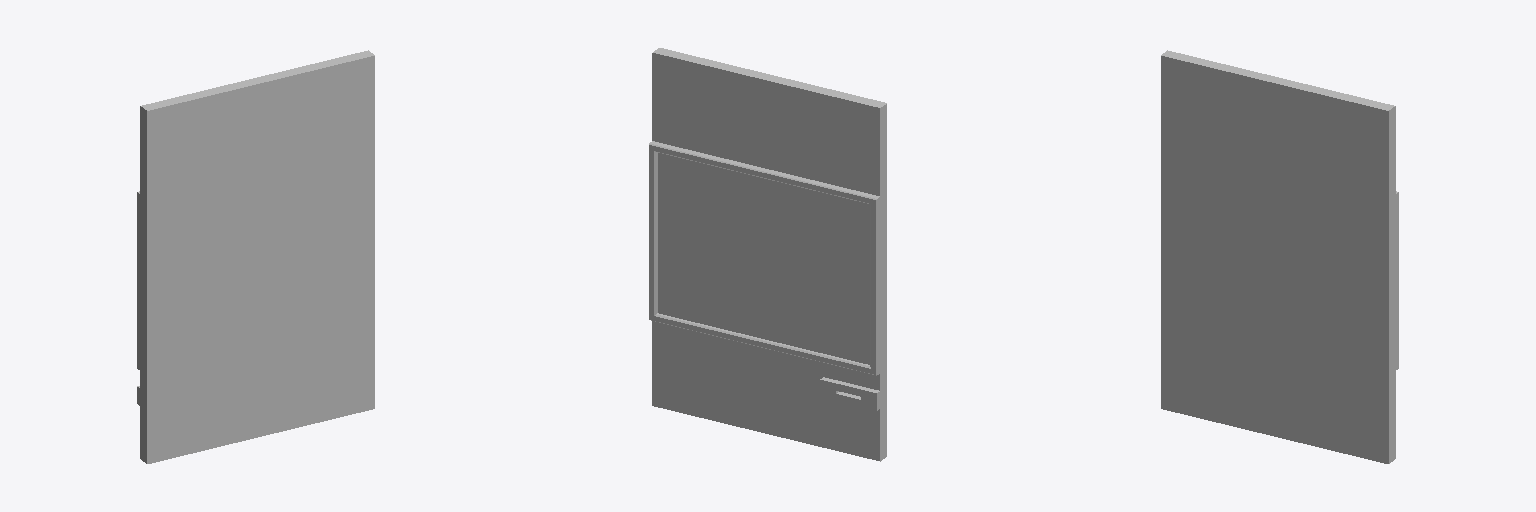
Rendered from wall_screen.obj.
3 views of the same model, side by side, from view 1: azimuth 30°, elevation 25°; view 2: azimuth 150°, elevation 25°; view 3: azimuth 330°, elevation 25° (orthographic).
Parts seen in each view (by area): view 1: Cube.018_Cube.022; view 2: Cube.018_Cube.022; view 3: Cube.018_Cube.022.
Boxes of the visible parts, x1,y1,x2,y2 form: Cube.018_Cube.022: [137, 50, 374, 463]; Cube.018_Cube.022: [649, 48, 886, 461]; Cube.018_Cube.022: [1161, 50, 1398, 463].
Bounding box in the file's own units: 2.67 × 3.95 × 0.2193.